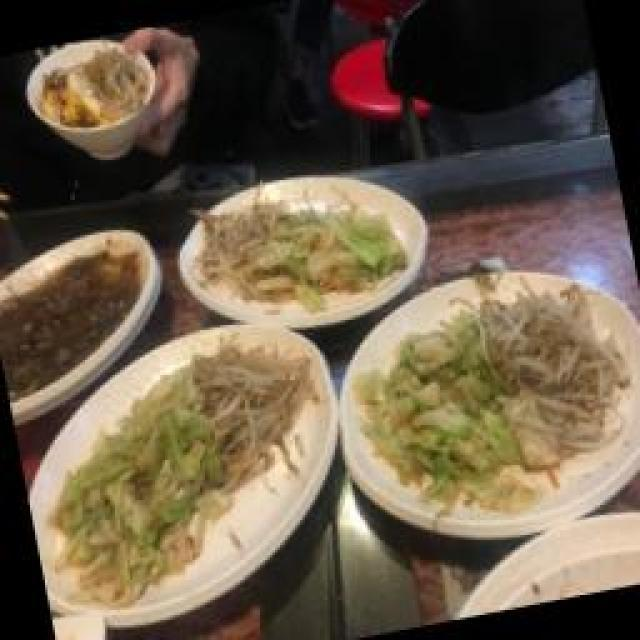chinese_cabbage: (38, 365, 233, 610), (343, 305, 538, 535), (277, 192, 415, 310)
mung_bean_sprouts: (485, 283, 625, 478), (185, 328, 325, 488), (193, 195, 288, 310), (88, 37, 153, 115)
